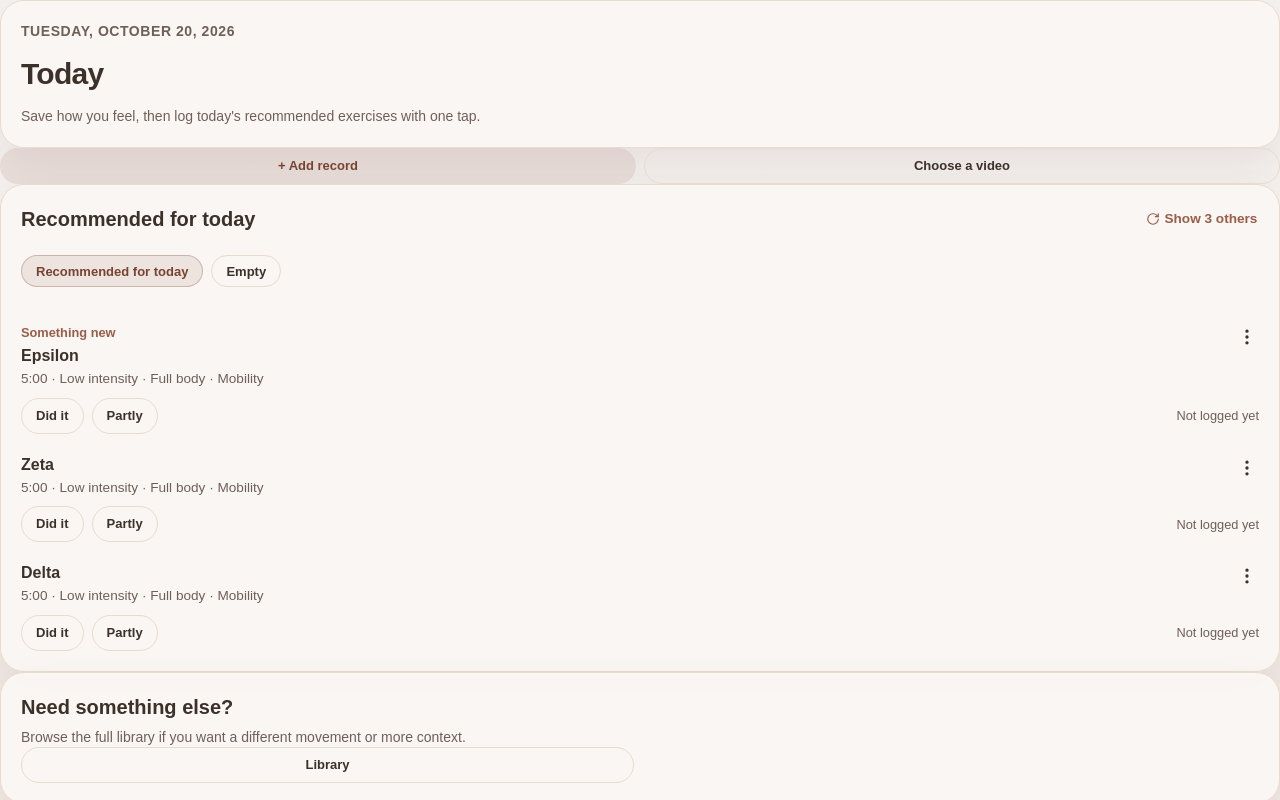
Test: an empty set shows a hint linking to the library
This screenshot has width=1280, height=800.
Click the button "Empty" at [246, 271], box [211,255,281,287]
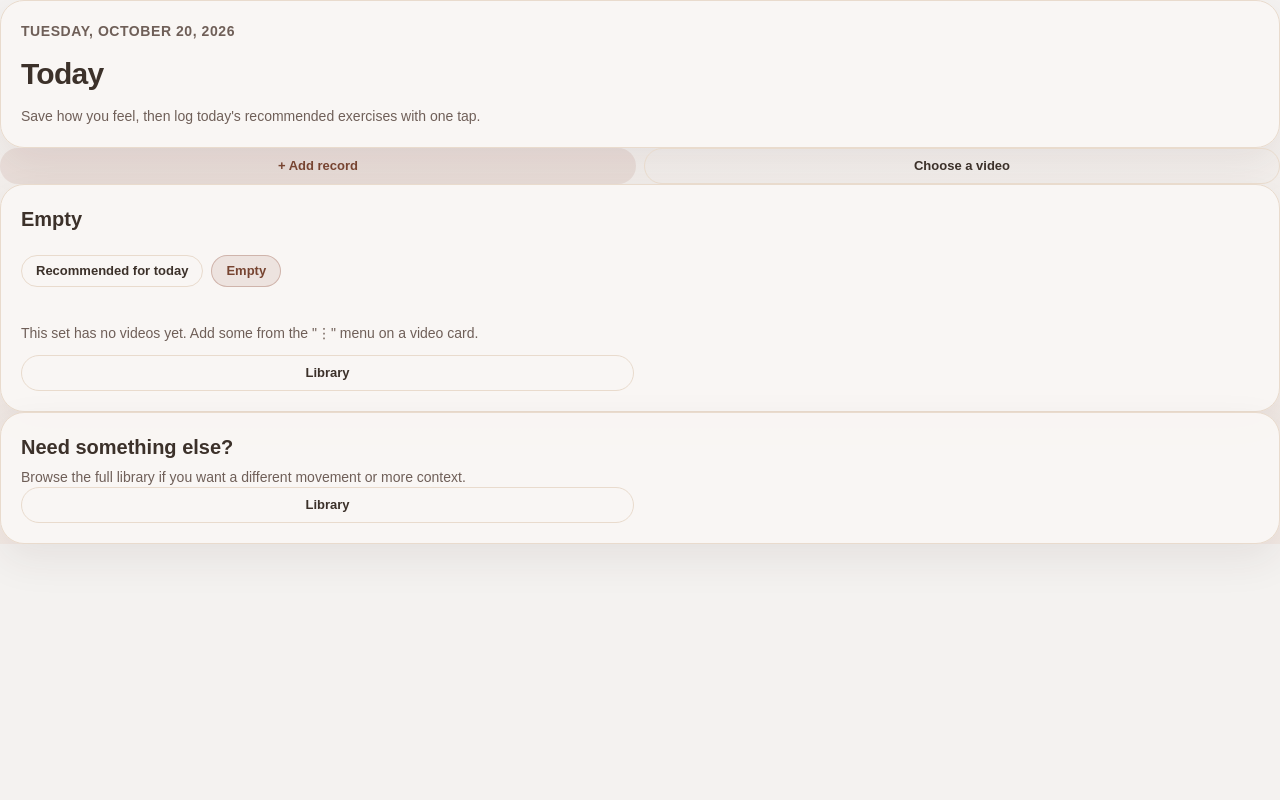
expect the text "This set has no videos yet. Add some from the \"⋮\" menu on a video card." is shown: met, box [21,325,478,341]
